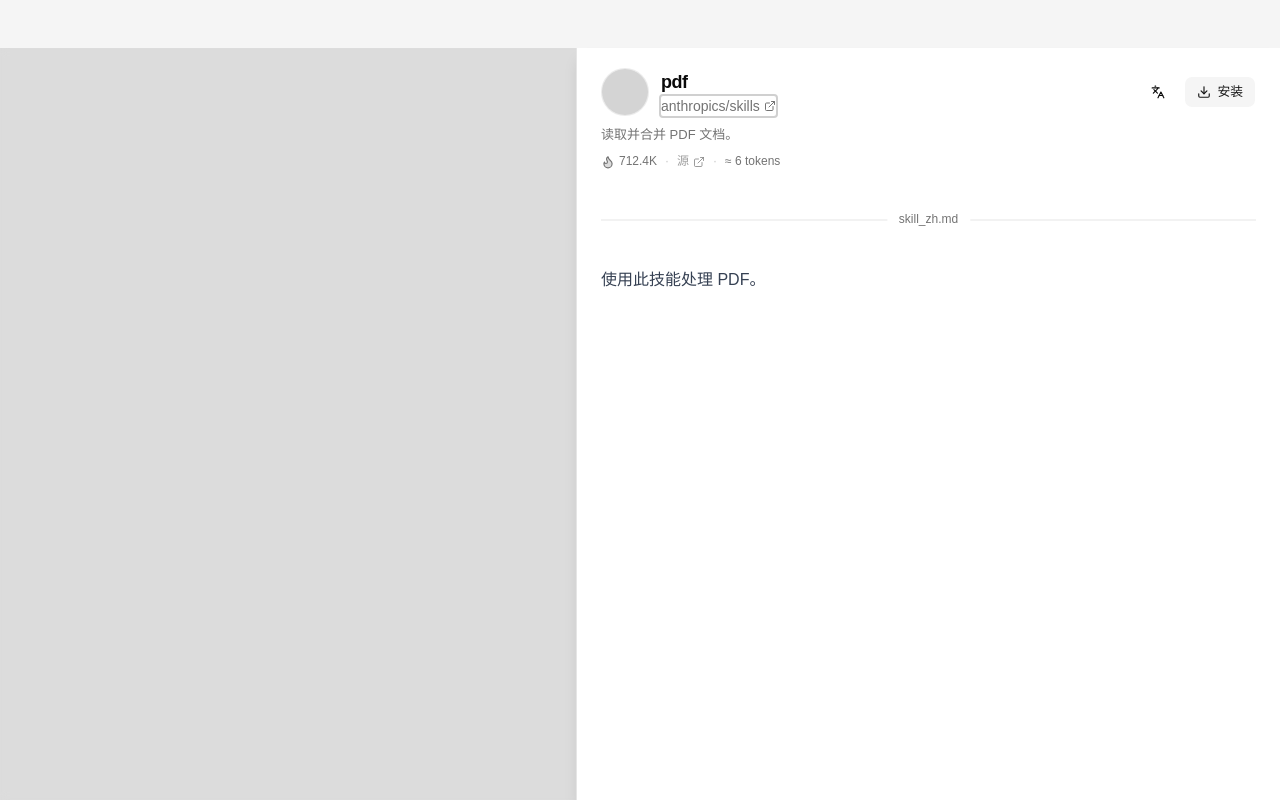
Test case: SkillDetailPanel Chinese page › swaps the description and the body together on one toggle
Expected: the text "读取并合并 PDF 文档。" is shown, [601, 127, 738, 142]
Expected: the text "使用此技能处理 PDF。" is shown, [601, 271, 766, 288]
Click the button named "原文": (1158, 92) [1144, 78, 1172, 106]
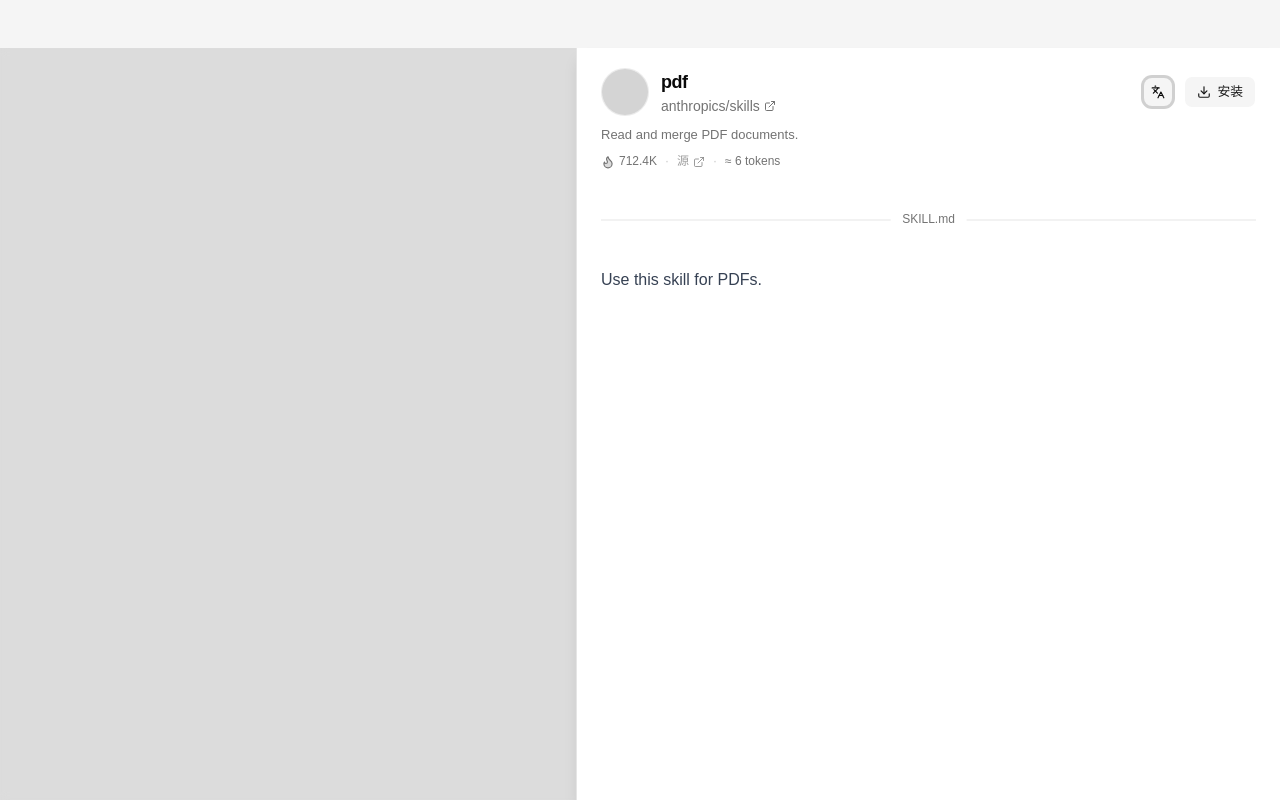
Expected: the text "Read and merge PDF documents." is shown, [601, 127, 798, 142]
Expected: the text "读取并合并 PDF 文档。" is gone
Expected: the text "Use this skill for PDFs." is shown, [601, 271, 762, 288]
// And one flip back restores both.
Click the button named "原文": (1158, 92) [1144, 78, 1172, 106]
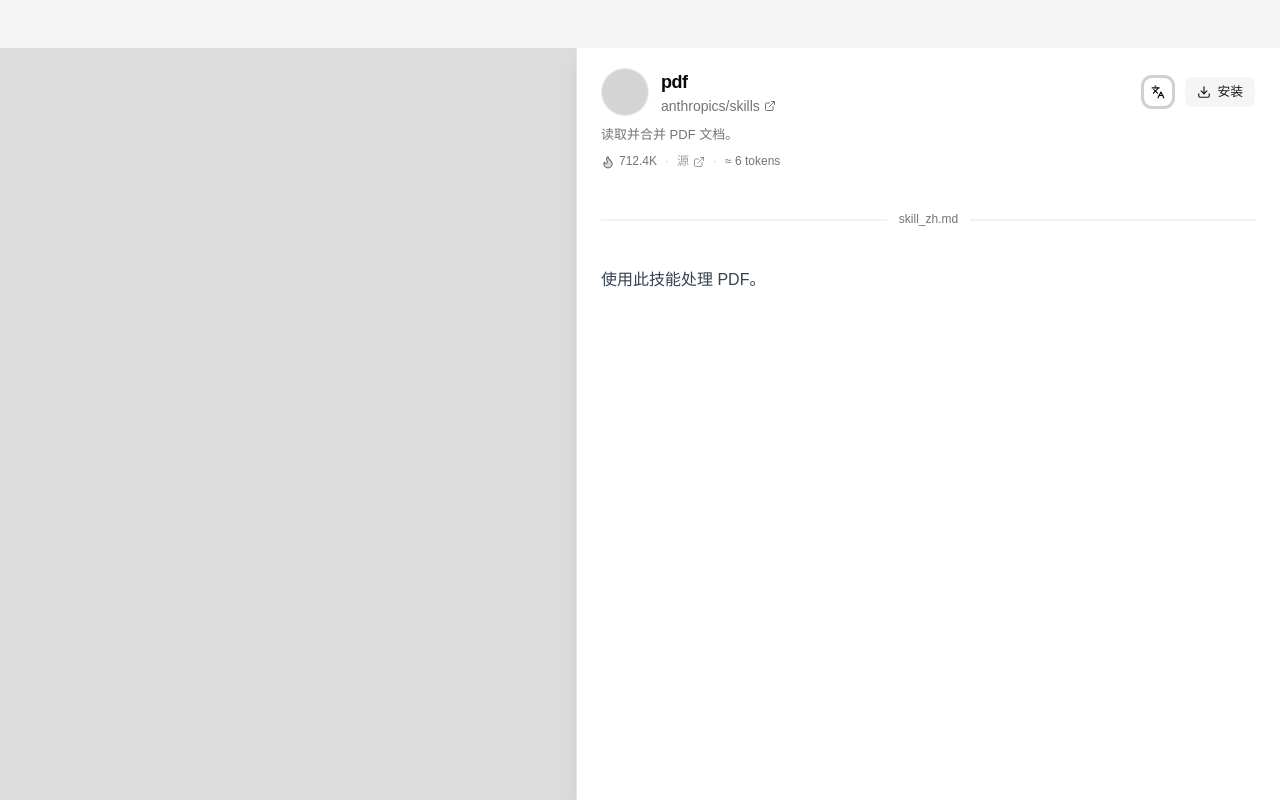
Expected: the text "读取并合并 PDF 文档。" is shown, [601, 127, 738, 142]
Expected: the text "使用此技能处理 PDF。" is shown, [601, 271, 766, 288]
Expected: the text "skill_zh.md" is shown, [887, 212, 970, 229]
